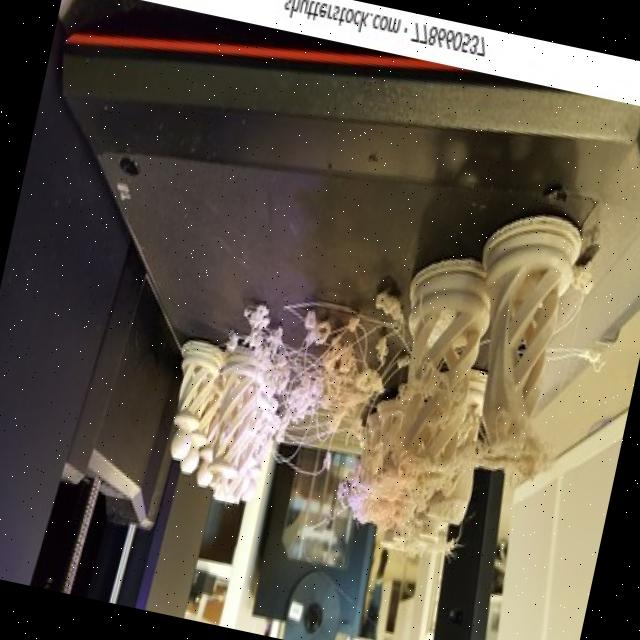spaghetti: (224, 224, 406, 458), (330, 426, 462, 568), (459, 400, 562, 512)
